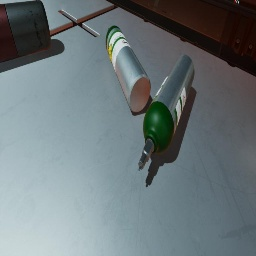0: (138, 54, 195, 171), (106, 25, 151, 113)
NitrogenTank ,: (0, 0, 51, 63)
